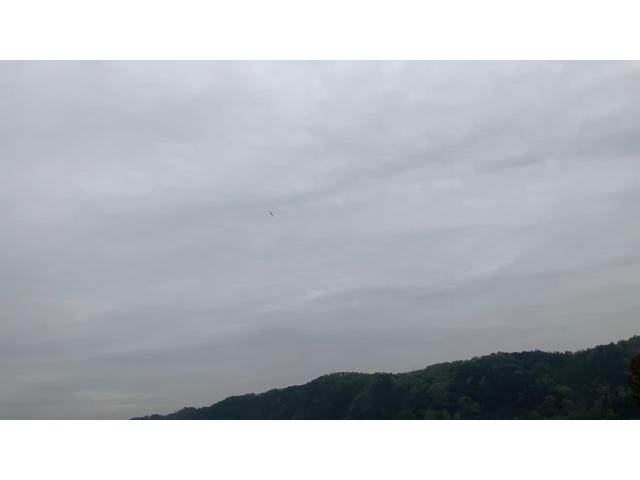Anti-Drone: (258, 204, 288, 224)
